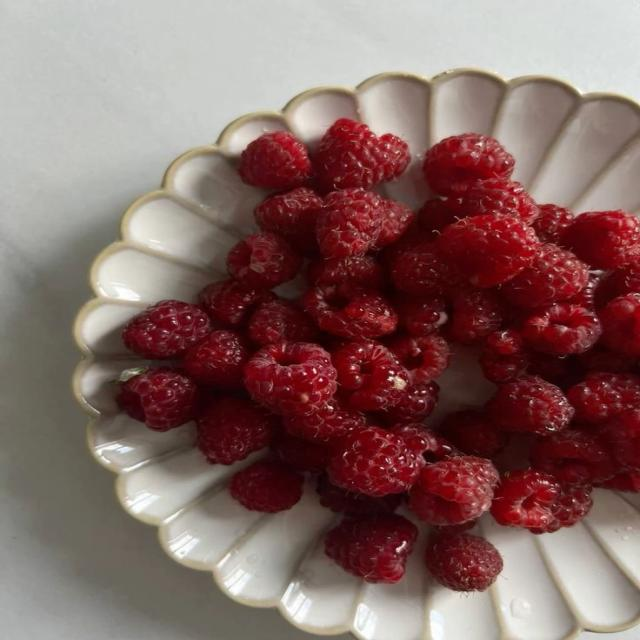raspberry: (436, 214, 539, 287), (314, 119, 410, 189), (327, 427, 423, 496), (245, 342, 336, 414), (326, 515, 418, 583), (409, 457, 498, 525), (197, 397, 278, 465), (501, 244, 588, 307), (423, 134, 514, 194), (332, 341, 408, 411), (302, 284, 397, 339), (122, 301, 211, 359), (487, 376, 574, 435), (117, 367, 197, 431), (530, 430, 615, 484), (317, 189, 383, 257), (254, 188, 323, 253), (562, 211, 639, 269), (426, 534, 502, 591), (239, 131, 313, 189), (521, 303, 602, 355), (227, 233, 301, 287), (182, 330, 249, 389), (491, 470, 559, 528), (230, 460, 303, 512), (391, 242, 460, 296), (458, 179, 539, 224), (567, 374, 639, 424), (199, 280, 277, 326), (317, 474, 401, 516), (283, 400, 365, 442), (449, 286, 506, 344), (441, 410, 507, 457), (247, 301, 317, 345), (387, 335, 451, 383), (530, 485, 593, 533), (390, 423, 459, 462), (480, 329, 529, 383), (377, 382, 439, 424), (307, 256, 385, 289), (377, 224, 434, 268), (600, 294, 639, 356), (392, 295, 448, 335), (271, 434, 328, 472), (372, 199, 415, 249), (605, 408, 639, 471), (528, 351, 582, 388), (596, 262, 639, 306), (417, 198, 463, 239), (480, 349, 529, 384), (390, 423, 440, 455), (578, 347, 638, 373), (533, 204, 573, 243), (564, 274, 599, 309), (423, 430, 460, 462), (487, 329, 523, 354), (597, 472, 639, 492), (431, 520, 477, 538)
